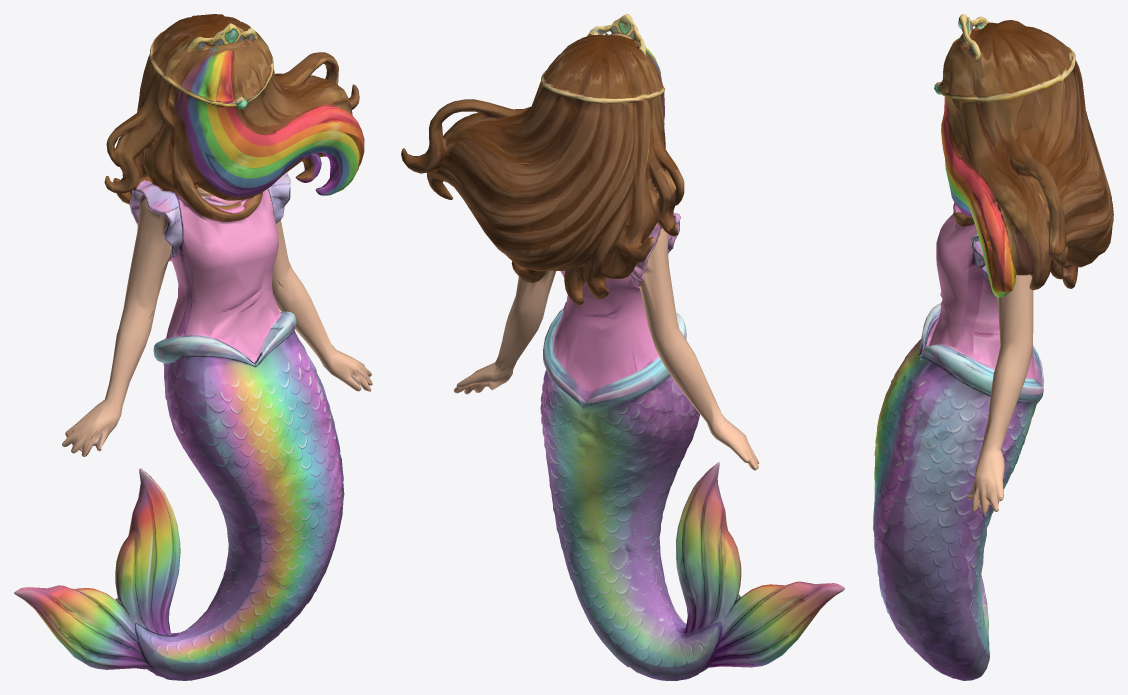
Rendered from static.glb.
The picture shows the model from 3 angles, left to right: view 1: azimuth 30°, elevation 25°; view 2: azimuth 150°, elevation 25°; view 3: azimuth 270°, elevation 25°; orthographic projection. The views are drawn at different scales.
Visible parts, largest first — view 1: Mesh_0; view 2: Mesh_0; view 3: Mesh_0.
Boxes of the visible parts, bbox=[...] form: Mesh_0: bbox=[14, 14, 372, 680]; Mesh_0: bbox=[401, 14, 844, 680]; Mesh_0: bbox=[873, 14, 1113, 680].
Size of the model in its own units: 1.2 by 1.9 by 0.613.
1 material, 1 textured.
